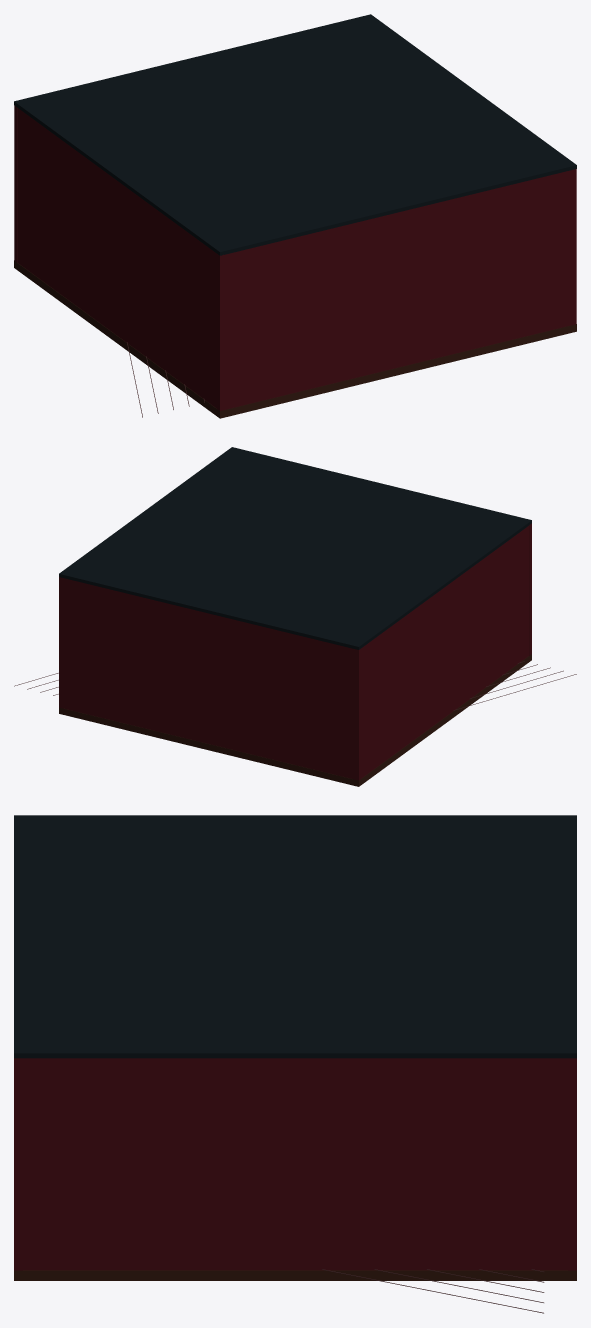
The model's file is CasinoHorizonte.obj.
The picture shows the model from 3 angles, top to bottom: view 1: azimuth 30°, elevation 25°; view 2: azimuth 150°, elevation 25°; view 3: azimuth 270°, elevation 25°; orthographic projection. The views are drawn at different scales.
Visible parts, largest first — view 1: burgundy_6, navy_5, wood_0; view 2: burgundy_6, navy_5, wood_0, carpetline_12; view 3: navy_5, burgundy_6, wood_0, carpetline_12.
Part boxes in pixels (<box>): burgundy_6: <box>14,105,576,410</box>; navy_5: <box>14,14,576,255</box>; wood_0: <box>14,260,576,418</box>; burgundy_6: <box>59,523,531,780</box>; navy_5: <box>59,447,531,649</box>; wood_0: <box>59,654,531,786</box>; carpetline_12: <box>14,661,576,710</box>; navy_5: <box>14,815,576,1058</box>; burgundy_6: <box>14,1058,576,1270</box>; wood_0: <box>14,1270,576,1280</box>; carpetline_12: <box>322,1269,544,1313</box>.
Bounding box in the file's own units: 16.4 × 5.35 × 12.
